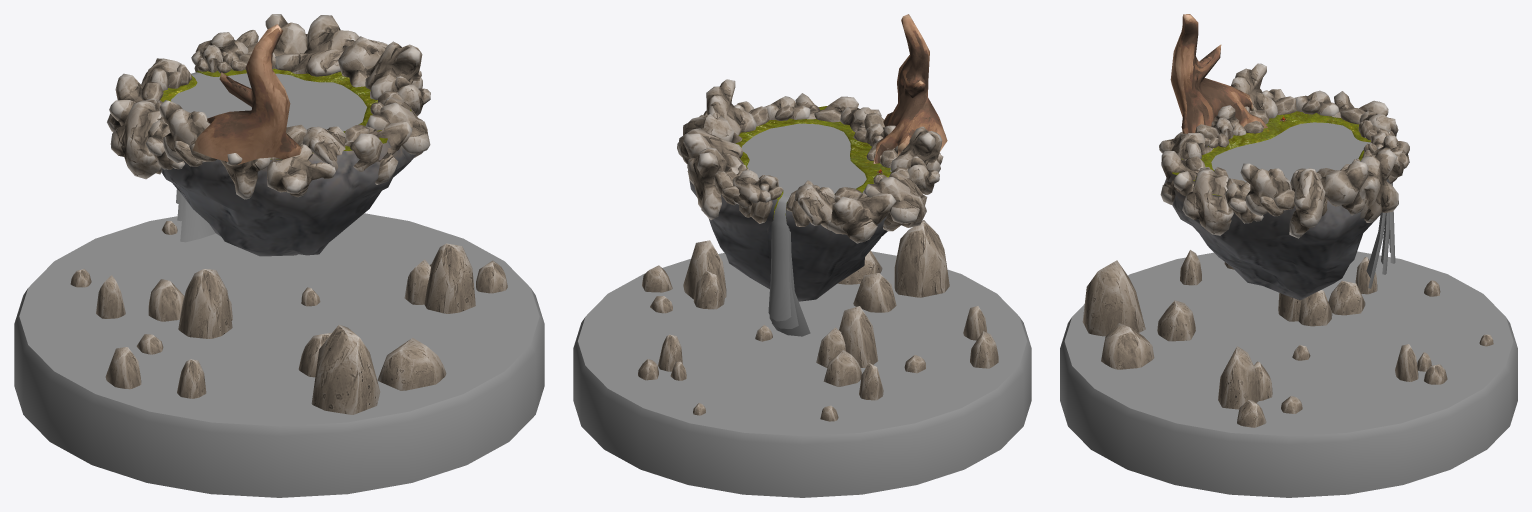
File: ENV_Island_01.FBX
The picture shows the model from 3 angles, left to right: view 1: azimuth 30°, elevation 25°; view 2: azimuth 150°, elevation 25°; view 3: azimuth 270°, elevation 25°; orthographic projection. The views are drawn at different scales.
Parts seen in each view (by area): view 1: ENV_SeaWater_01, ENV_Rocks_01, ENV_SeaCascade_01, ENV_Island_01, PRP_Tree_01, ENV_LakeWater_01, ENV_CascadeGround_01, ENV_CascadeWater_01; view 2: ENV_SeaWater_01, ENV_Rocks_01, ENV_SeaCascade_01, ENV_Island_01, ENV_LakeWater_01, PRP_Tree_01, ENV_CascadeWater_01, ENV_CascadeGround_01; view 3: ENV_SeaWater_01, ENV_Rocks_01, ENV_SeaCascade_01, ENV_Island_01, ENV_LakeWater_01, PRP_Tree_01, ENV_CascadeGround_01, ENV_CascadeWater_01.
Part boxes in pixels (bbox=[...]): ENV_SeaWater_01: bbox=[19, 213, 539, 426]; ENV_Rocks_01: bbox=[70, 14, 507, 414]; ENV_SeaCascade_01: bbox=[14, 288, 544, 497]; ENV_Island_01: bbox=[161, 139, 417, 256]; PRP_Tree_01: bbox=[193, 24, 301, 164]; ENV_LakeWater_01: bbox=[171, 73, 366, 131]; ENV_CascadeGround_01: bbox=[160, 68, 411, 159]; ENV_CascadeWater_01: bbox=[176, 72, 215, 242]; ENV_SeaWater_01: bbox=[578, 251, 1026, 435]; ENV_Rocks_01: bbox=[638, 79, 998, 421]; ENV_SeaCascade_01: bbox=[573, 318, 1031, 497]; ENV_Island_01: bbox=[689, 178, 887, 301]; ENV_LakeWater_01: bbox=[742, 123, 866, 194]; PRP_Tree_01: bbox=[873, 14, 947, 163]; ENV_CascadeWater_01: bbox=[768, 193, 810, 336]; ENV_CascadeGround_01: bbox=[735, 106, 891, 218]; ENV_SeaWater_01: bbox=[1064, 251, 1513, 435]; ENV_Rocks_01: bbox=[1082, 63, 1493, 427]; ENV_SeaCascade_01: bbox=[1060, 317, 1517, 497]; ENV_Island_01: bbox=[1164, 173, 1390, 300]; ENV_LakeWater_01: bbox=[1211, 122, 1370, 182]; PRP_Tree_01: bbox=[1170, 14, 1267, 133]; ENV_CascadeGround_01: bbox=[1172, 111, 1370, 195]; ENV_CascadeWater_01: bbox=[1366, 183, 1395, 288].
Bounding box in the file's own units: 69.71 × 60.67 × 69.71.
